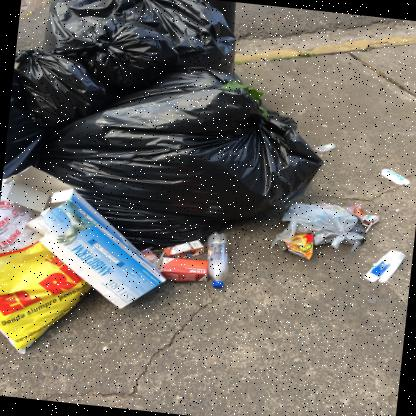Clear plastic bottle: (207, 231, 228, 288)
Crisp packet: (275, 232, 313, 260)
Drink carton: (344, 203, 379, 228), (163, 239, 203, 258), (140, 247, 158, 263)
Garbage bag: (33, 67, 323, 249), (49, 0, 236, 77), (53, 16, 179, 93), (14, 48, 110, 130)
Other carton: (2, 165, 165, 309), (364, 249, 405, 283), (152, 257, 207, 281), (381, 168, 410, 185)
Plastic bottle cap: (212, 282, 223, 288)
Plastic film: (313, 142, 335, 153)
Plastic straw: (365, 222, 372, 233), (160, 251, 164, 258)
Pop tab: (321, 124, 327, 127)
Single-use carrier bag: (0, 179, 92, 353), (275, 203, 365, 251)
